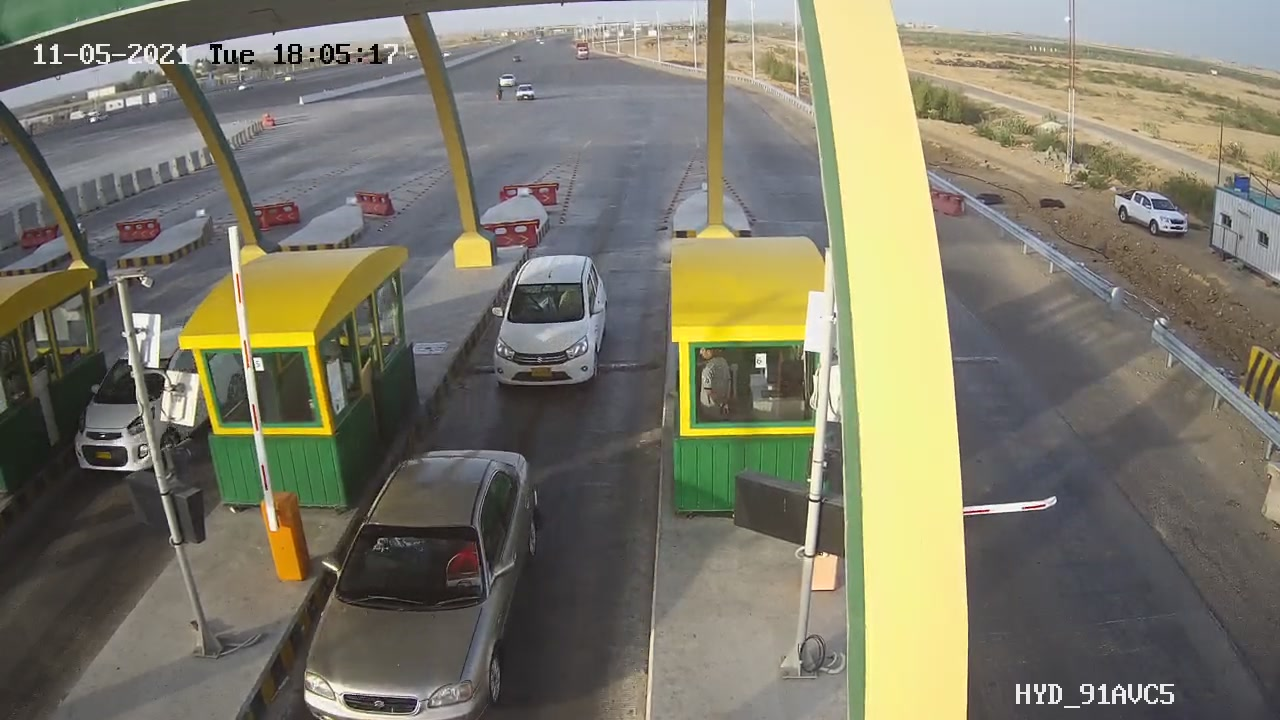F1: (478, 234, 631, 411)
